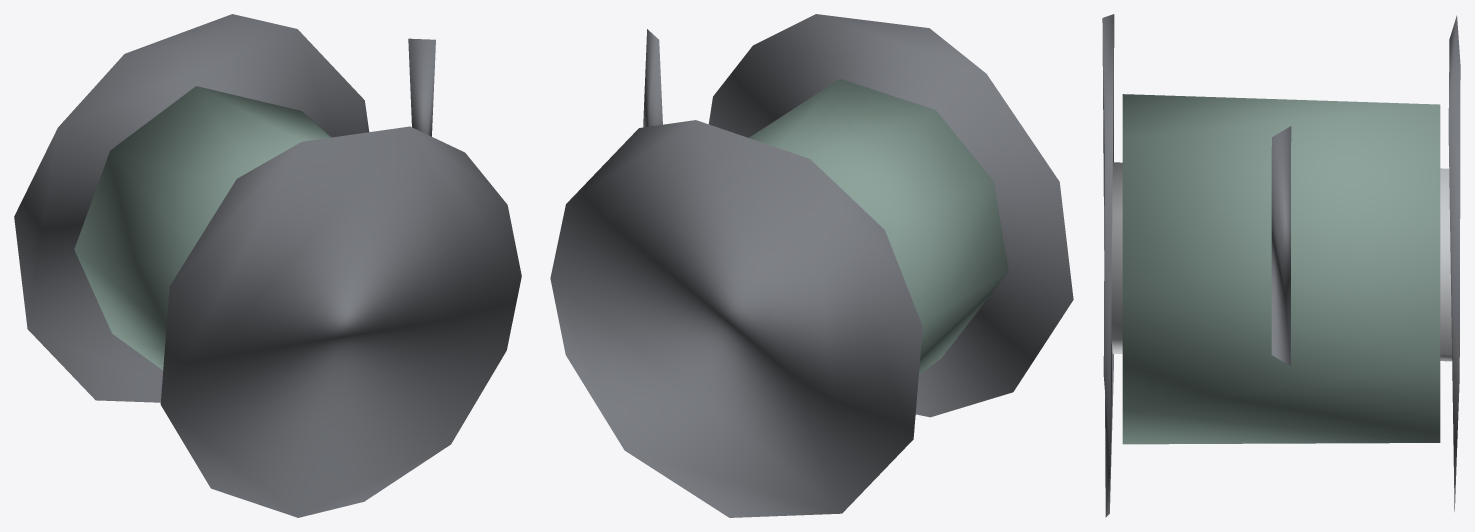
File: Prop_CableReel_LOD2.glb
3 renders of one model, left to right at view 1: azimuth 30°, elevation 25°; view 2: azimuth 150°, elevation 25°; view 3: azimuth 270°, elevation 25°, orthographic. The views are drawn at different scales.
Visible parts, largest first — view 1: Prop_CableReel_LOD2; view 2: Prop_CableReel_LOD2; view 3: Prop_CableReel_LOD2.
Part boxes in pixels (left/top/right/bottom): Prop_CableReel_LOD2: left=14, top=14, right=521, bottom=517; Prop_CableReel_LOD2: left=550, top=14, right=1073, bottom=517; Prop_CableReel_LOD2: left=1102, top=14, right=1460, bottom=517.
Bounding box in the file's own units: 0.6976 × 0.7051 × 0.496.
